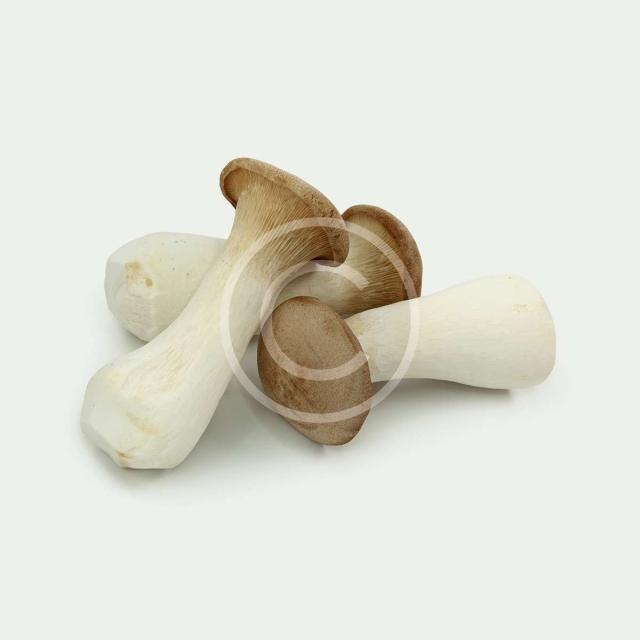Pleurotus eryngii: (84, 160, 350, 466), (261, 282, 580, 432)
